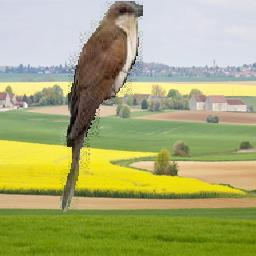Cuckoo: (61, 2, 144, 213)
